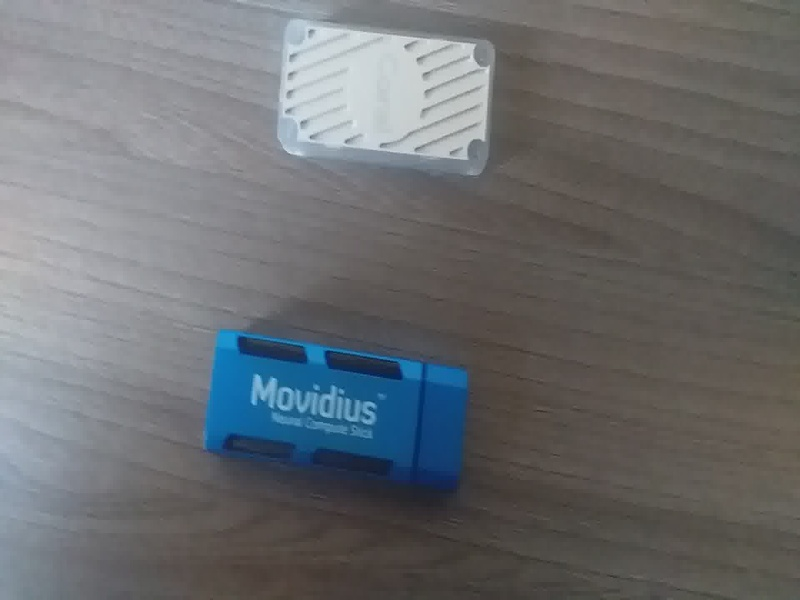coral: (273, 12, 497, 201)
movidius: (199, 326, 470, 497)
